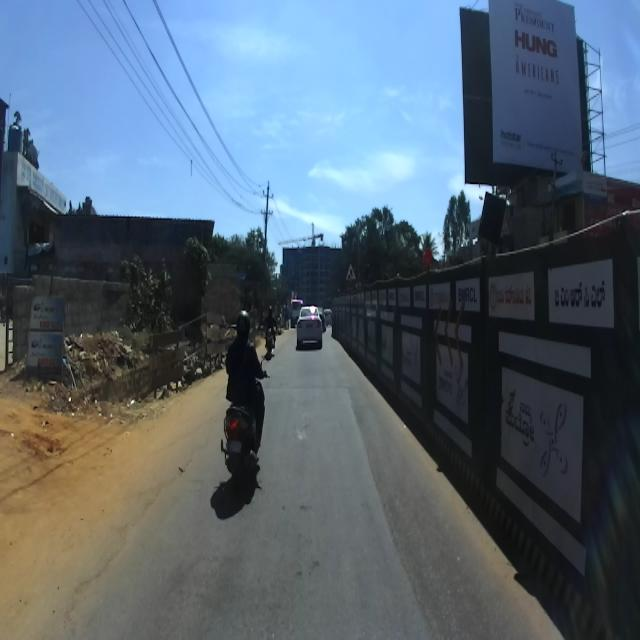barrier ahead at: (332, 214, 636, 639)
car ahead at: (294, 303, 324, 359)
motorcycle ahead at: (218, 391, 270, 485)
